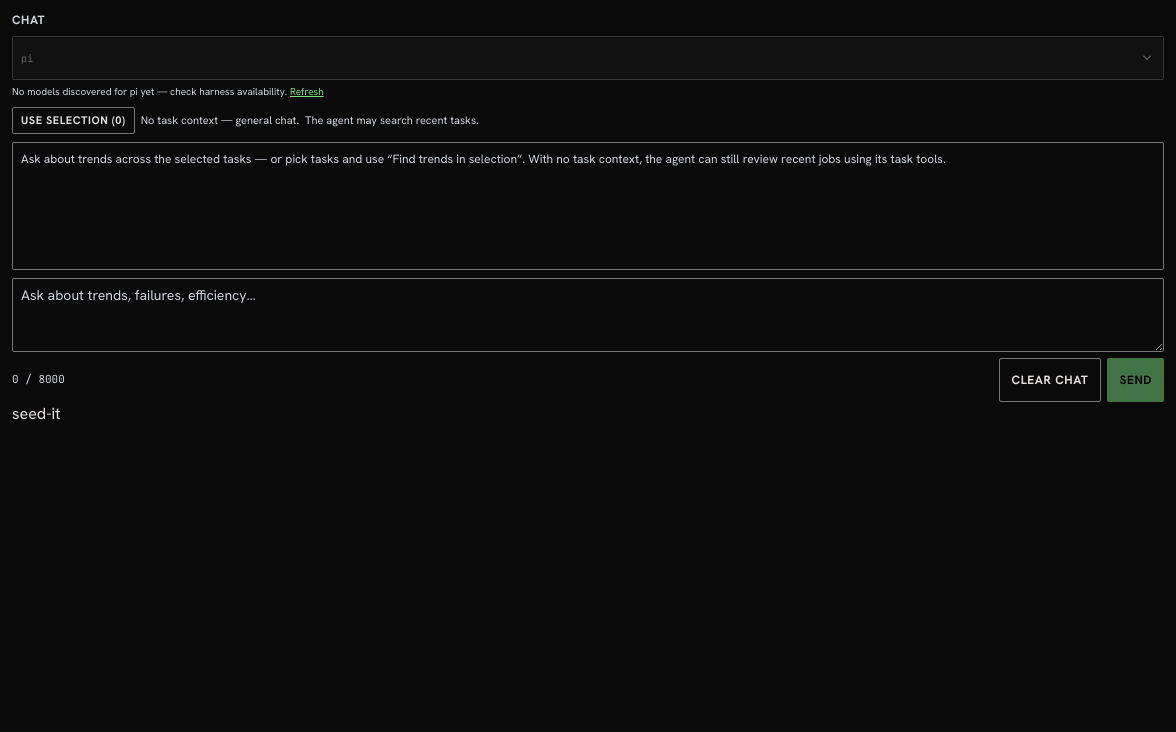
Test case: RetrospectiveChat › confirms a suggestion into a real ticket
The image size is (1176, 732).
Type "Suggest tickets" into the text box with test id "retrospective-chat-input". click: point(588, 314)
box: [12,278,1164,352]
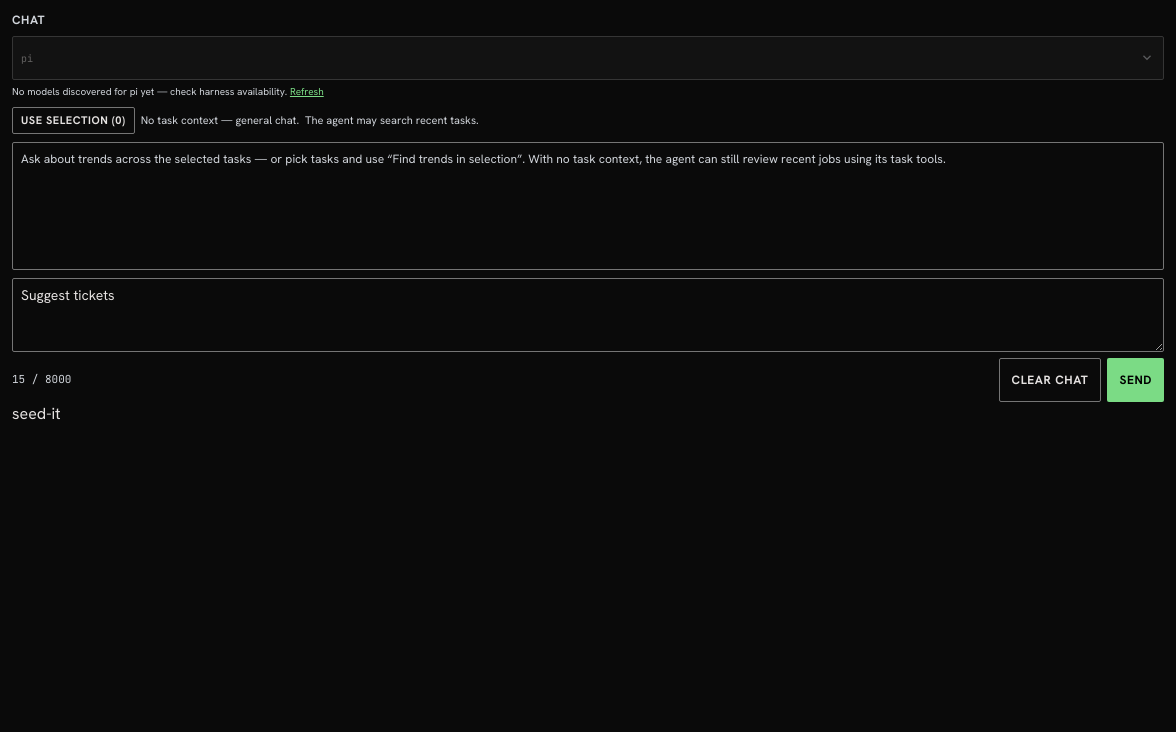
Click the button with test id "retrospective-chat-send". click: point(1136, 380)
box: [1107,358,1164,402]
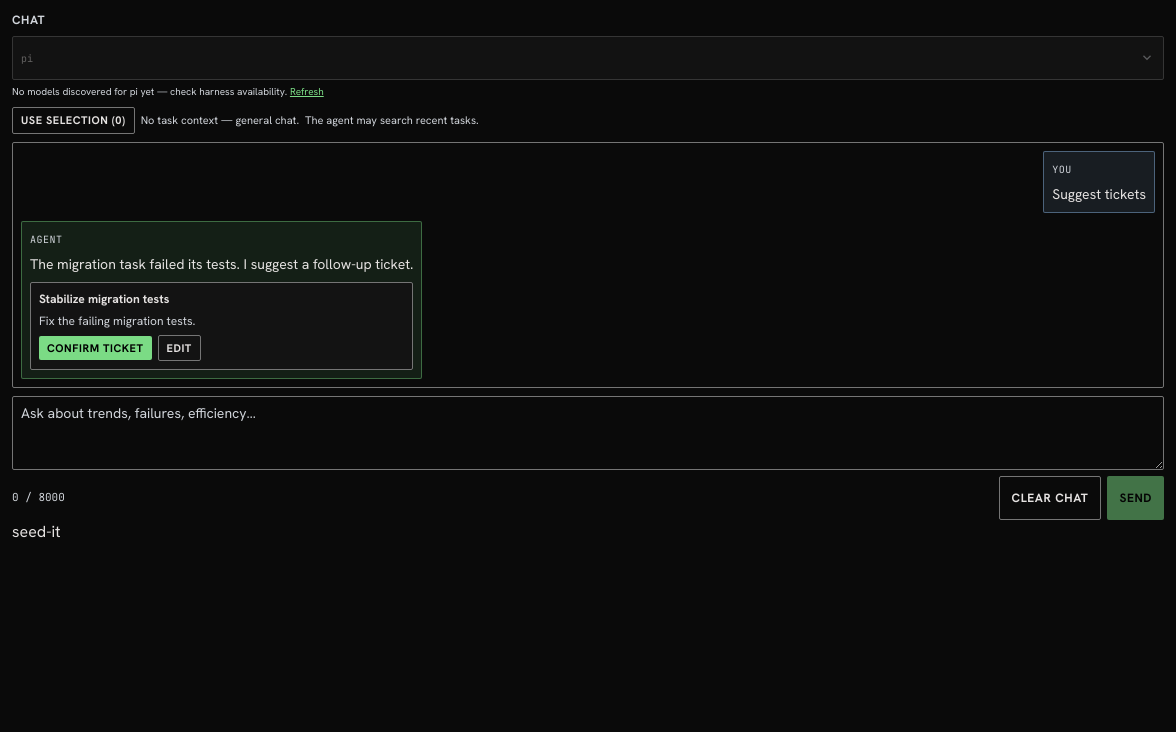
Now the list item with test id "retrospective-suggestion-1:0" is shown, box [30,282,413,370]
Click the button "Confirm ticket". click: point(95, 348)
box: [39,336,152,360]
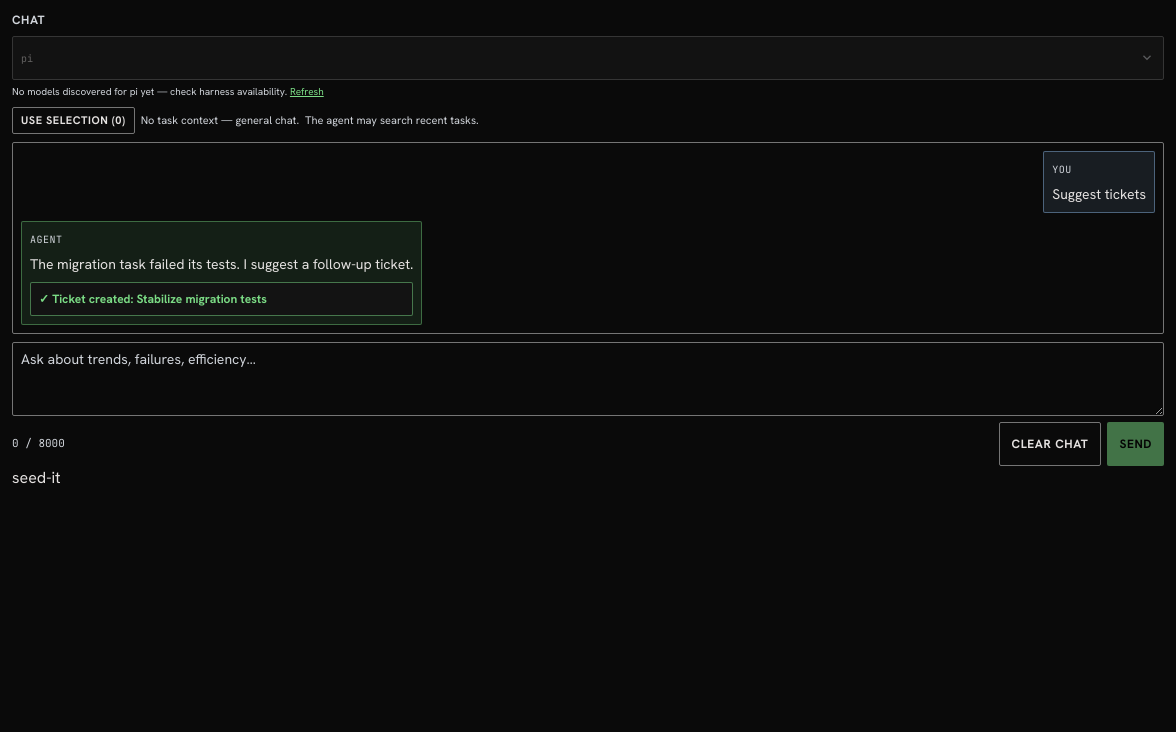
Now the list item with test id "retrospective-suggestion-1:0" shows "Ticket created: Stabilize migration tests", box [30,282,413,316]
